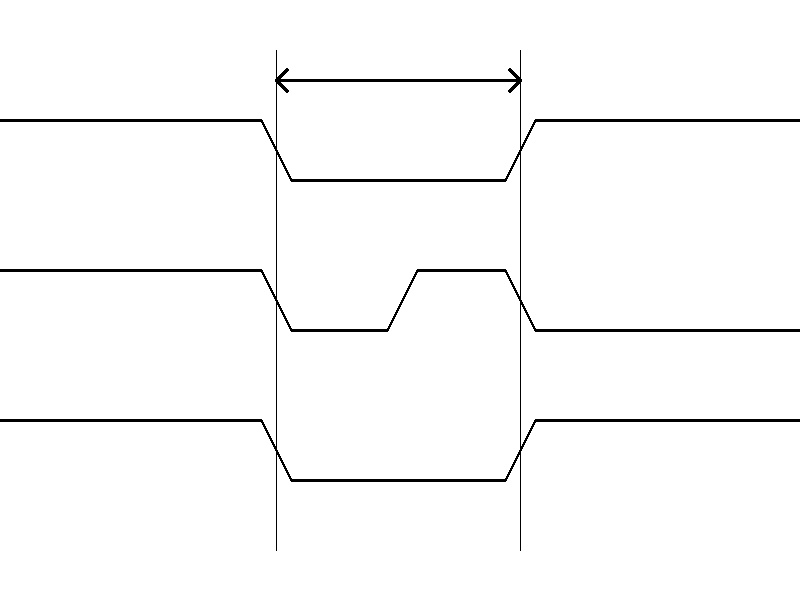double_arrow: (276, 65, 520, 95)
